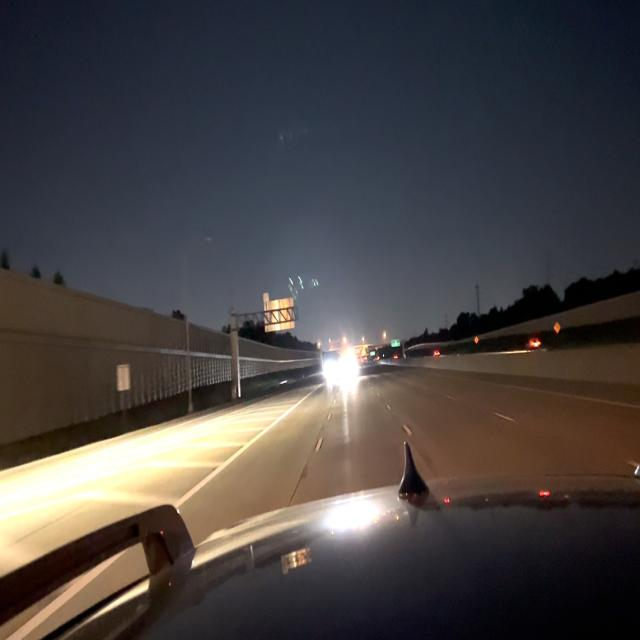back-of-sign: (263, 299, 296, 332), (116, 366, 129, 391), (264, 292, 269, 302)
